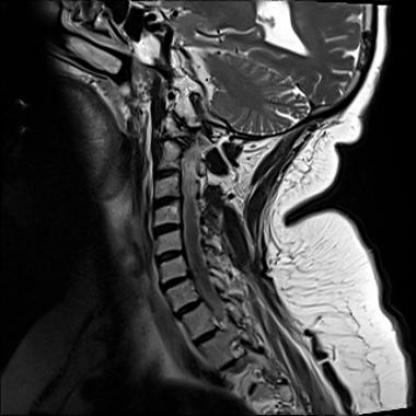Disc Protrusionrotation: (161, 275, 194, 291), (153, 249, 186, 265), (151, 194, 182, 208)
